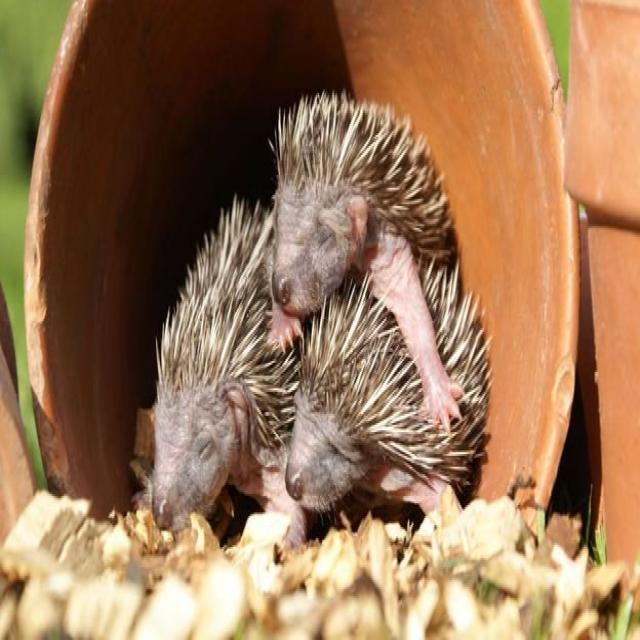Hedgehog: (260, 66, 473, 431), (287, 253, 495, 548), (148, 189, 308, 523)
